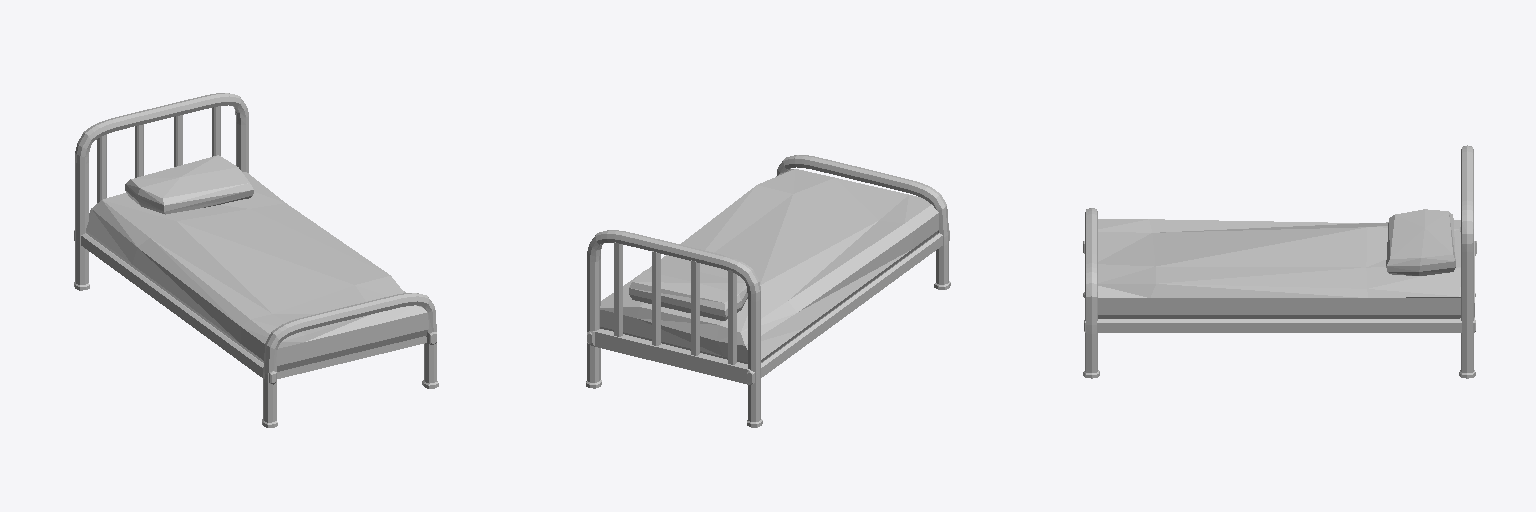
3 renders of one model, left to right at view 1: azimuth 30°, elevation 25°; view 2: azimuth 150°, elevation 25°; view 3: azimuth 270°, elevation 25°, orthographic.
Parts seen in each view (by area): view 1: matress_Cube_001, Metal_Bed_Cube_003, pilow_Cube_000; view 2: matress_Cube_001, Metal_Bed_Cube_003, pilow_Cube_000; view 3: matress_Cube_001, Metal_Bed_Cube_003, pilow_Cube_000.
Boxes of the visible parts, x1,y1,x2,y2 form: matress_Cube_001: [86, 172, 428, 371]; Metal_Bed_Cube_003: [74, 93, 438, 427]; pilow_Cube_000: [125, 155, 253, 214]; matress_Cube_001: [600, 169, 938, 363]; Metal_Bed_Cube_003: [586, 155, 950, 427]; pilow_Cube_000: [629, 264, 747, 320]; matress_Cube_001: [1098, 219, 1460, 318]; Metal_Bed_Cube_003: [1083, 145, 1476, 378]; pilow_Cube_000: [1386, 209, 1455, 275].
Size of the model in its own units: 1.42 by 1.25 by 2.79.